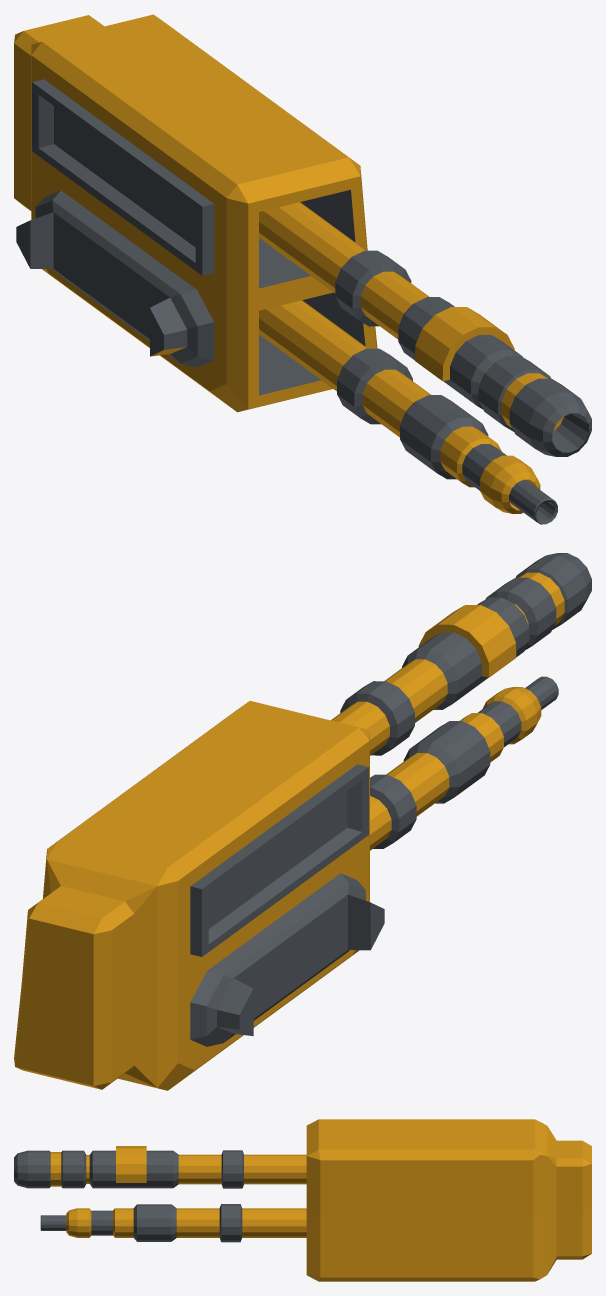
File: Fighter_05_Artillery_Right_Yellow.fbx
3 views of the same model, one above another, from view 1: azimuth 30°, elevation 25°; view 2: azimuth 150°, elevation 25°; view 3: azimuth 270°, elevation 25° (orthographic). The views are drawn at different scales.
Visible parts, largest first — view 1: Fighter_05_Artillery_Right_Yellow; view 2: Fighter_05_Artillery_Right_Yellow; view 3: Fighter_05_Artillery_Right_Yellow.
Part boxes in pixels (left/top/right/bottom): Fighter_05_Artillery_Right_Yellow: left=14, top=14, right=591, bottom=524; Fighter_05_Artillery_Right_Yellow: left=14, top=553, right=591, bottom=1090; Fighter_05_Artillery_Right_Yellow: left=14, top=1119, right=591, bottom=1281.
Size of the model in its own units: 155 by 175 by 726.
2 materials, 2 textured.
